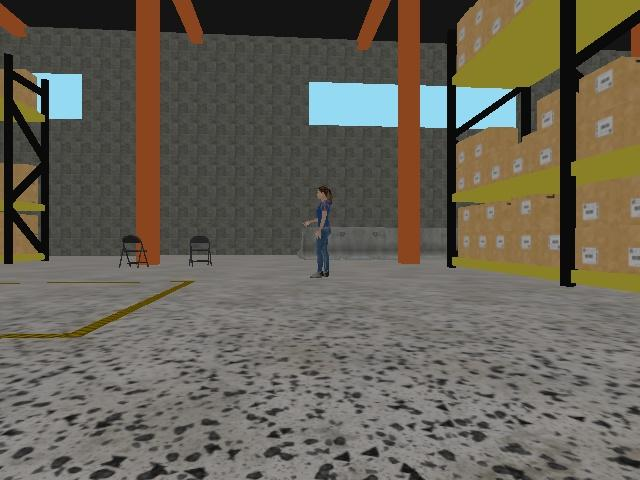chair: (118, 234, 150, 269), (188, 235, 213, 268)
person: (301, 186, 333, 279)
